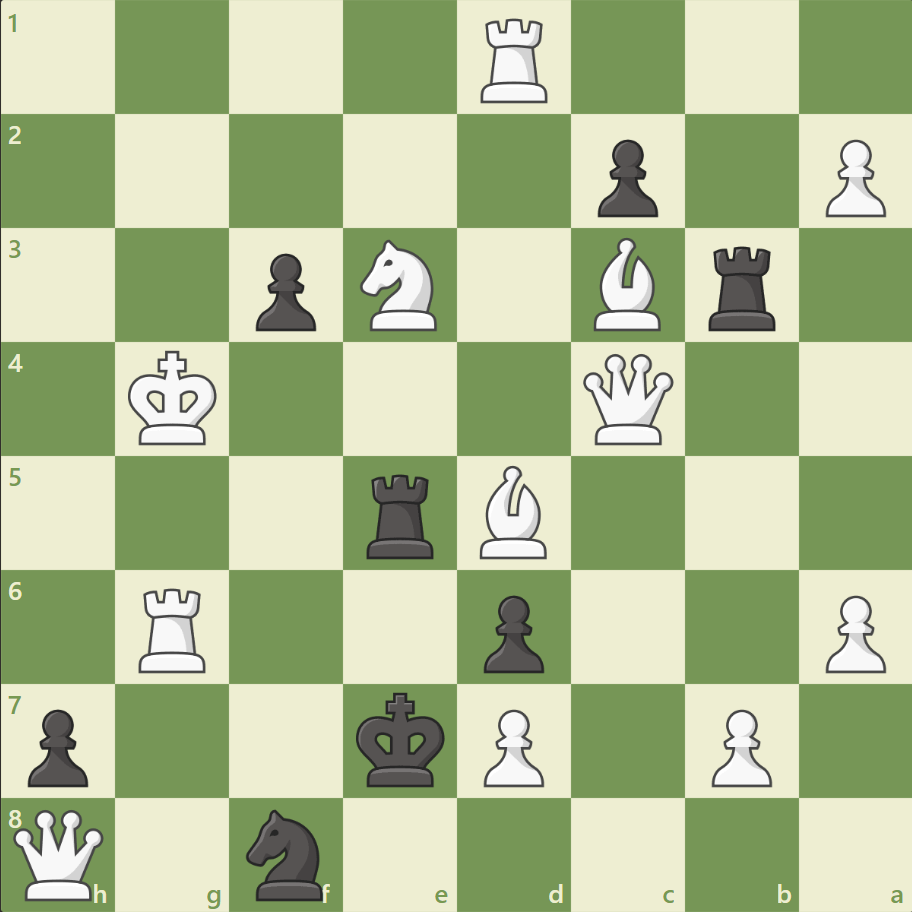B: (471, 460, 555, 563), (585, 233, 669, 336)
K: (124, 344, 224, 452)
N: (351, 234, 449, 337)
P: (701, 700, 776, 791), (474, 700, 549, 791), (815, 586, 889, 677), (815, 132, 889, 223)
Q: (578, 349, 677, 449), (10, 804, 109, 903)
R: (473, 12, 556, 109), (133, 579, 215, 676)
k: (351, 685, 451, 793)
n: (238, 802, 335, 904)
p: (20, 700, 95, 791), (474, 586, 549, 677), (247, 246, 322, 337), (588, 132, 662, 223)
r: (700, 239, 783, 336), (360, 466, 442, 563)
